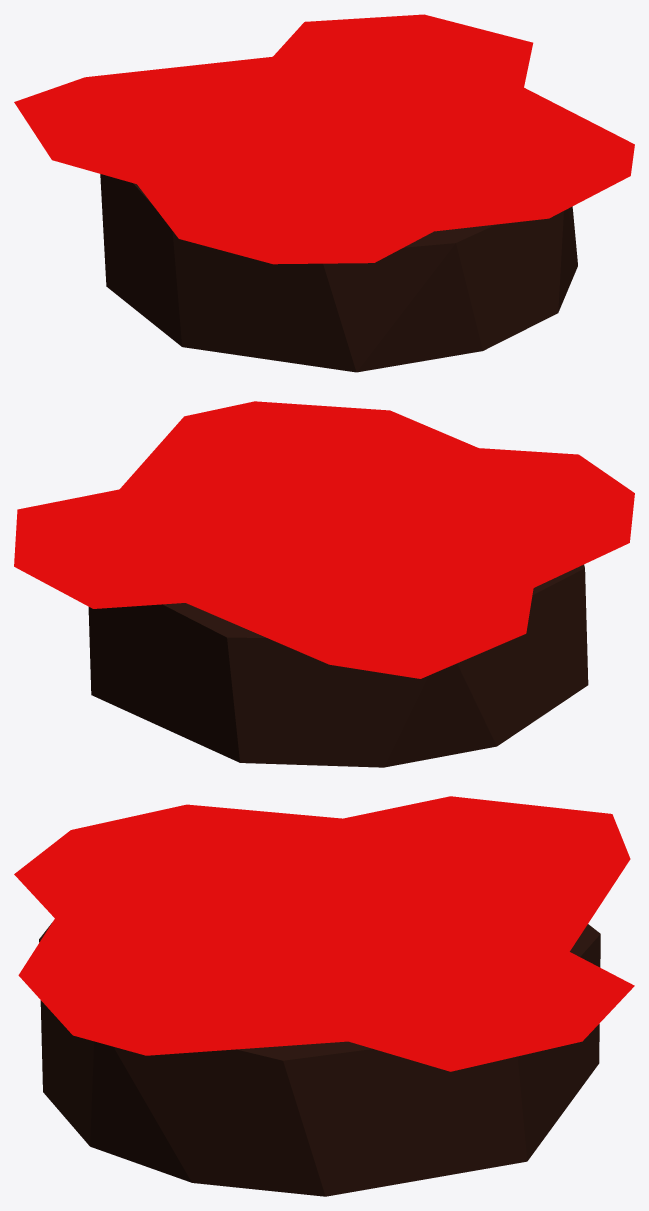
Rendered from KpdDoneMeat.obj.
3 renders of one model, top to bottom at view 1: azimuth 30°, elevation 25°; view 2: azimuth 150°, elevation 25°; view 3: azimuth 270°, elevation 25°, orthographic. The views are drawn at different scales.
Parts seen in each view (by area): view 1: Цилиндр; view 2: Цилиндр; view 3: Цилиндр.
Part boxes in pixels (x1,y1,x2,y2): Цилиндр: (14, 14, 634, 372); Цилиндр: (14, 401, 634, 767); Цилиндр: (14, 796, 634, 1196).
Size of the model in its own units: 0.7079 by 0.1779 by 0.6741.
